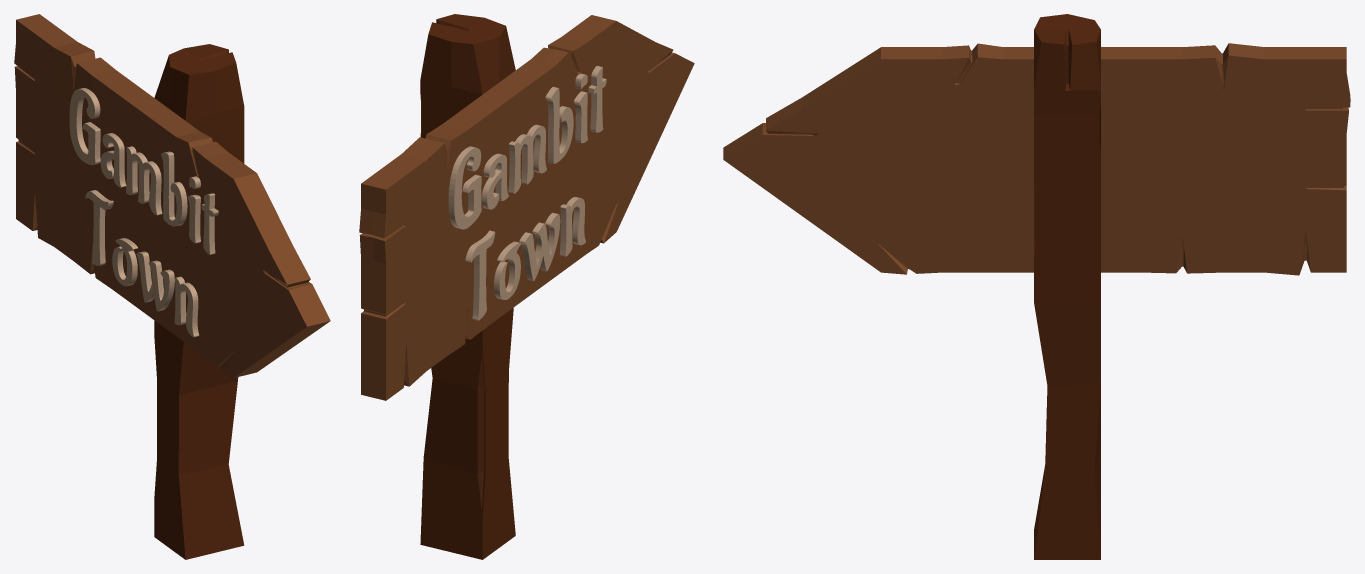
The model's file is Gambit Town.fbx.
The picture shows the model from 3 angles, left to right: view 1: azimuth 30°, elevation 25°; view 2: azimuth 150°, elevation 25°; view 3: azimuth 270°, elevation 25°; orthographic projection. The views are drawn at different scales.
Parts seen in each view (by area): view 1: FLECHA; view 2: FLECHA; view 3: FLECHA.
Boxes of the visible parts, bbox=[...] form: FLECHA: bbox=[14, 14, 330, 559]; FLECHA: bbox=[359, 14, 694, 559]; FLECHA: bbox=[723, 14, 1350, 559].
Bounding box in the file's own units: 49.52 × 253 × 279.
